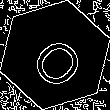O_NE: (21, 22, 89, 88)
